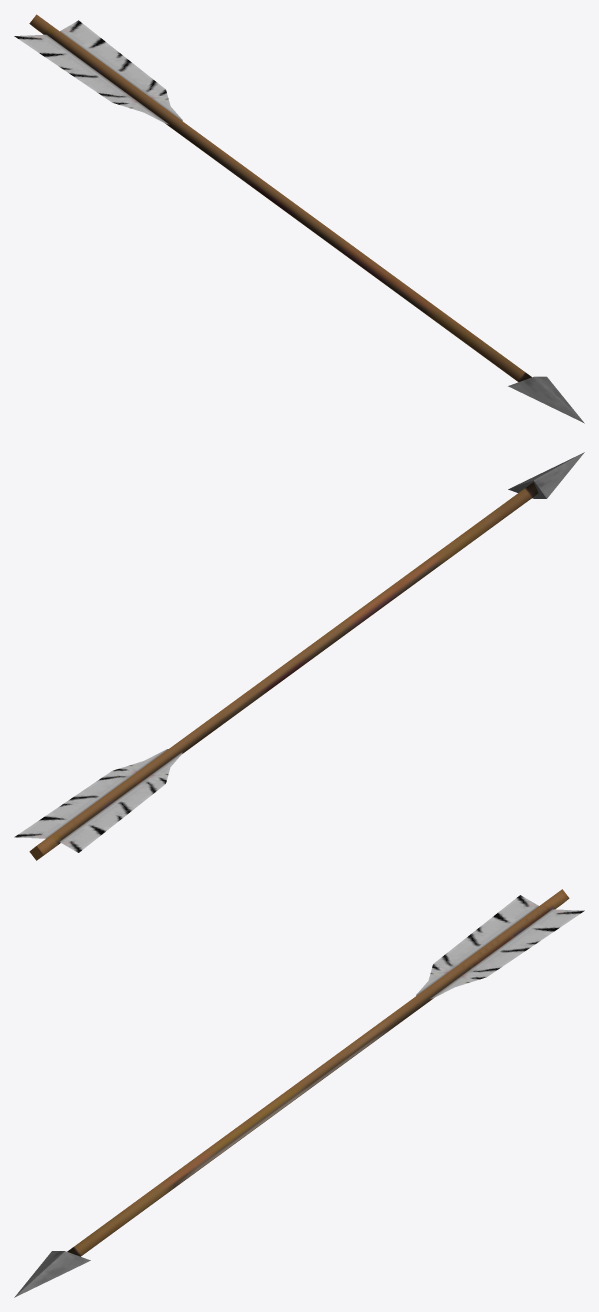
The model's file is arrow.glb.
3 renders of one model, top to bottom at view 1: azimuth 30°, elevation 25°; view 2: azimuth 150°, elevation 25°; view 3: azimuth 330°, elevation 25°, orthographic.
Parts seen in each view (by area): view 1: 0116_Archer_noesis_meshnode_0000.002; view 2: 0116_Archer_noesis_meshnode_0000.002; view 3: 0116_Archer_noesis_meshnode_0000.002.
Part boxes in pixels (x1=…): 0116_Archer_noesis_meshnode_0000.002: x1=14, y1=14, x2=584, y2=423; 0116_Archer_noesis_meshnode_0000.002: x1=14, y1=452, x2=584, y2=860; 0116_Archer_noesis_meshnode_0000.002: x1=14, y1=889, x2=584, y2=1297.
Bounding box in the file's own units: 0.0511 × 0.014 × 0.7504.
Materials: 1 (1 with a texture image).
